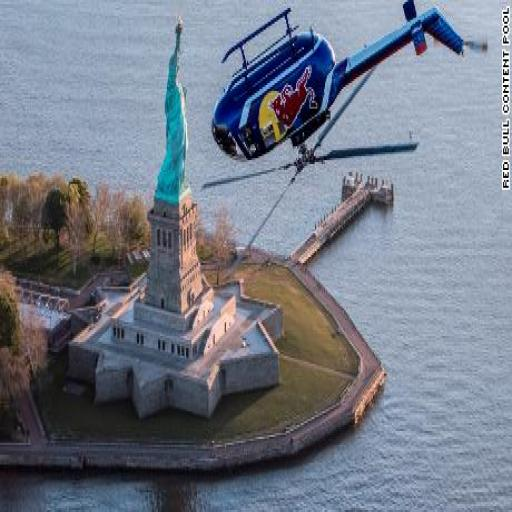helicopter: (206, 3, 470, 185)
